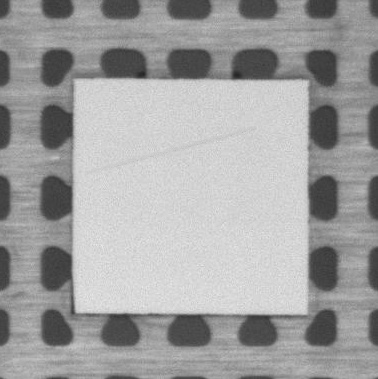DIE_CRACK: (87, 128, 255, 173)
